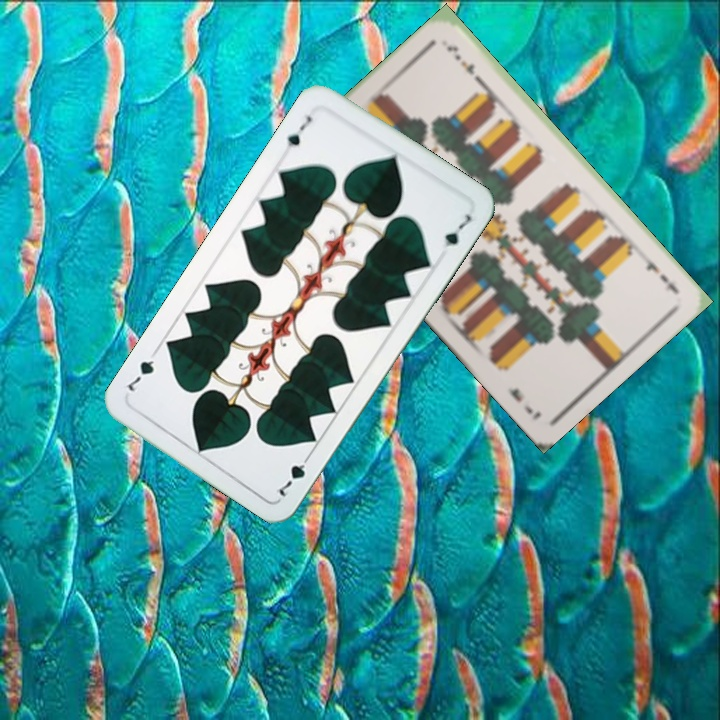E7: (636, 249, 683, 297)
G7: (271, 448, 314, 499), (279, 111, 315, 155)
